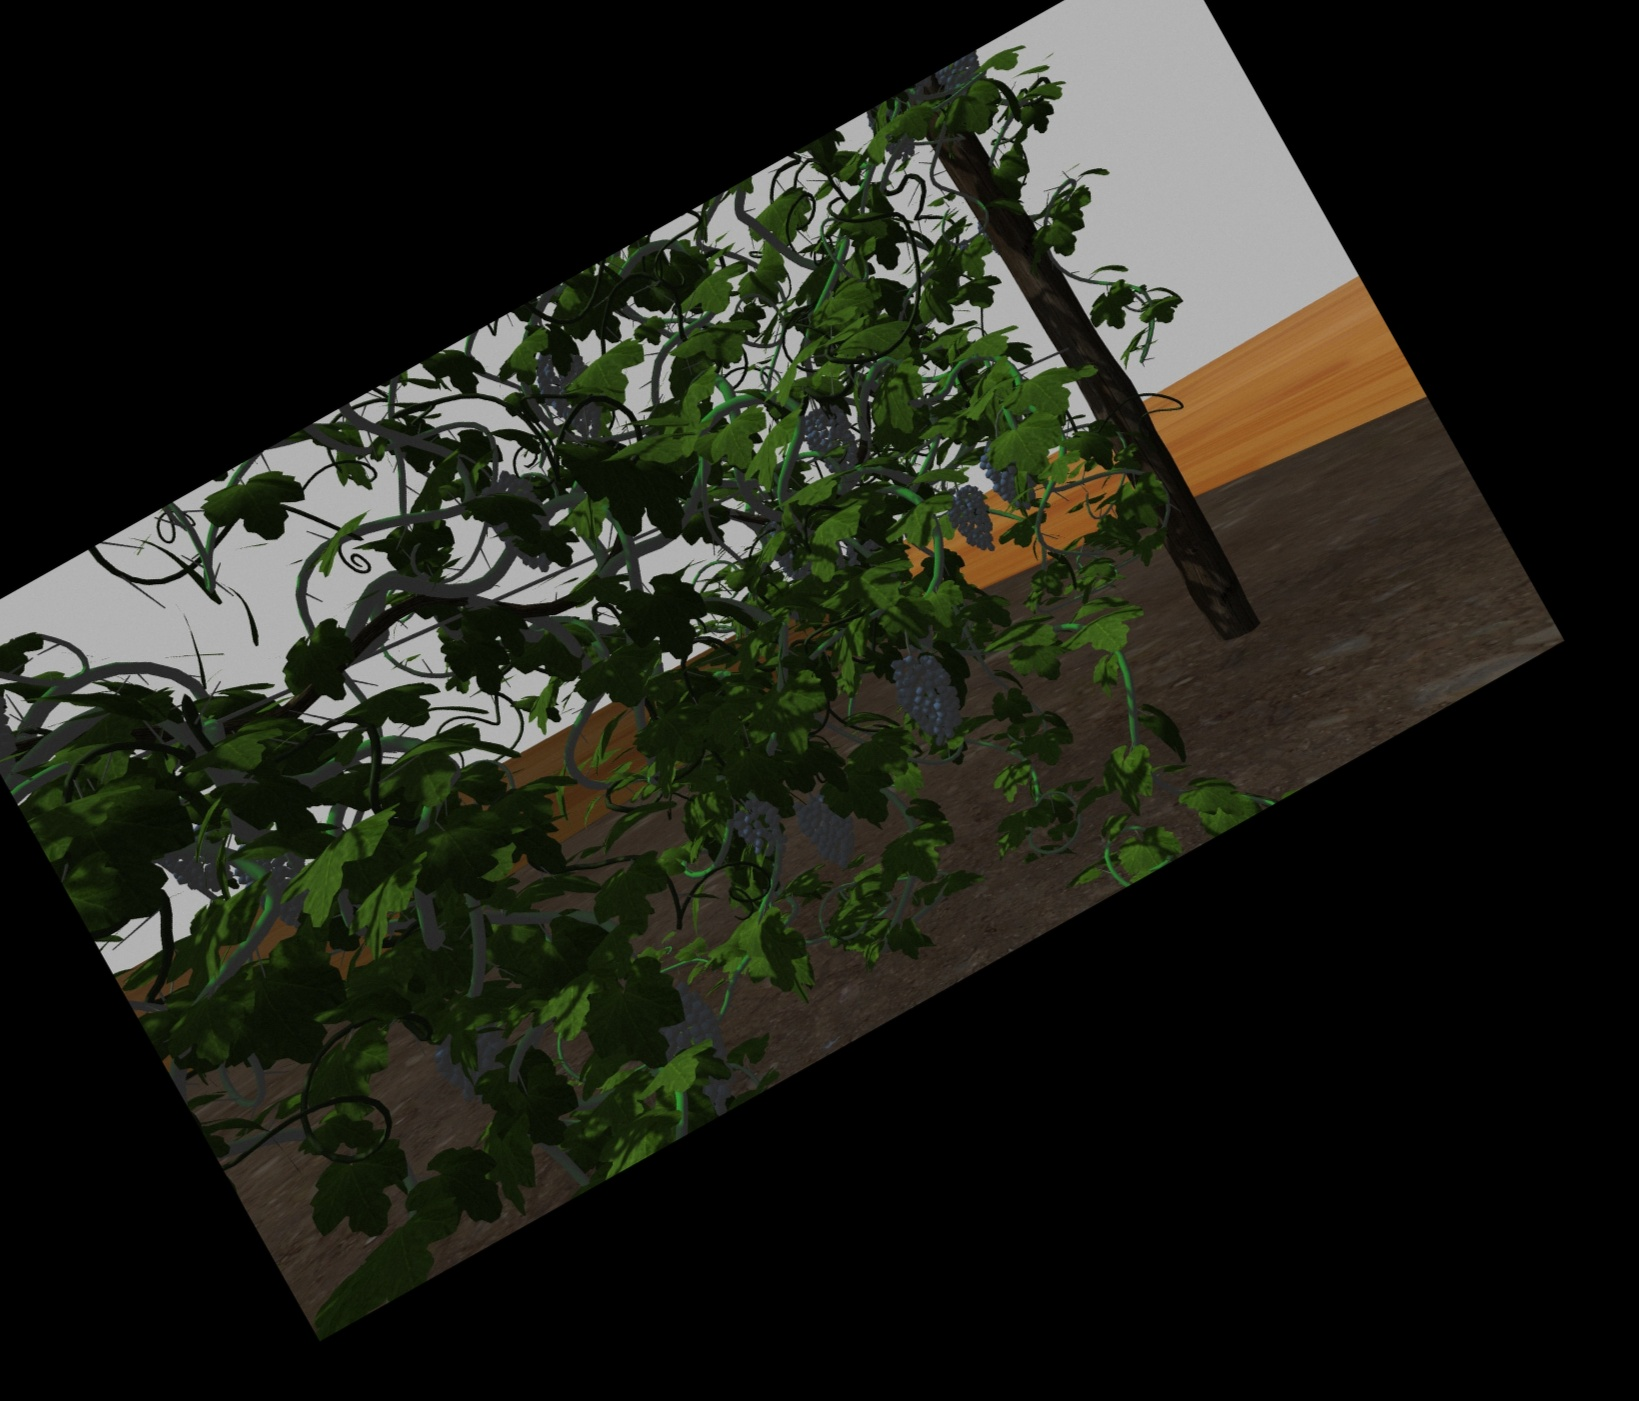grape: (660, 981, 721, 1090), (904, 650, 955, 741), (809, 796, 854, 870), (952, 488, 994, 555), (812, 410, 855, 470), (738, 801, 783, 853), (993, 450, 1026, 507)
